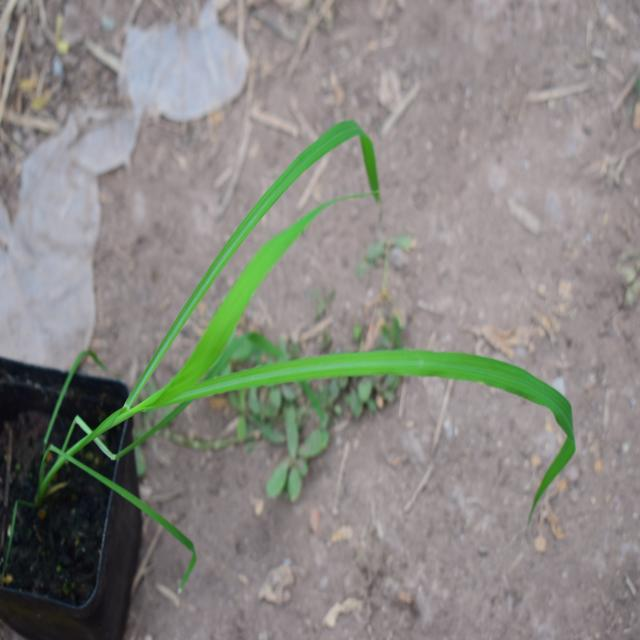barnyard_grass: (20, 111, 585, 540)
